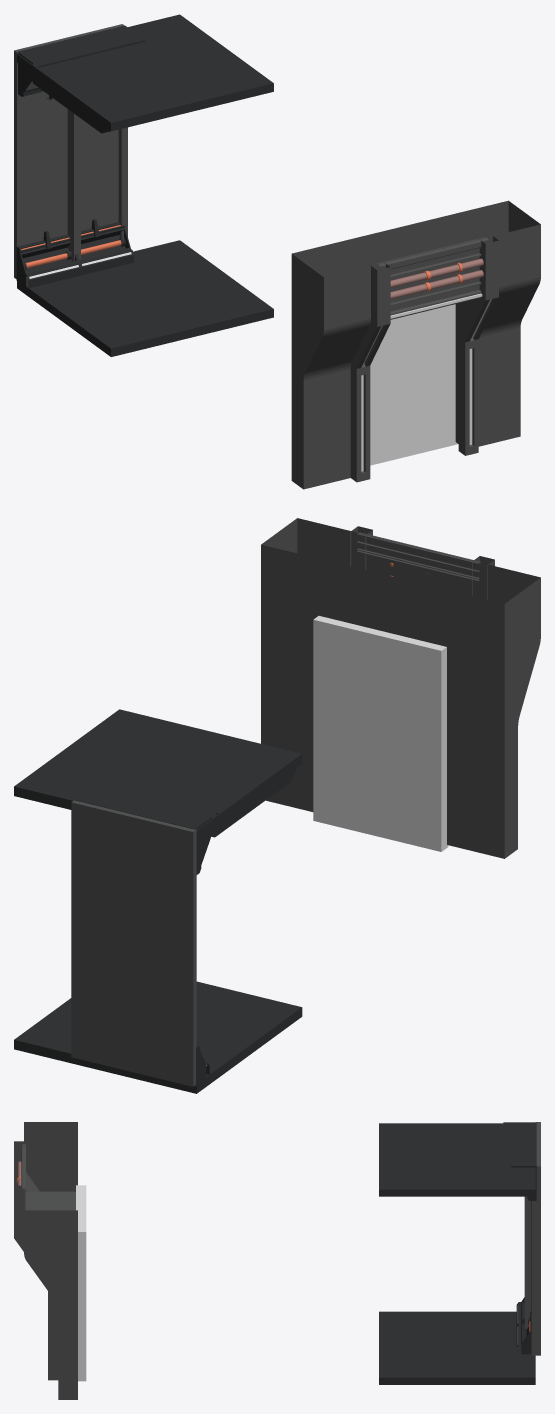
File: boundaries.fbx
3 renders of one model, top to bottom at view 1: azimuth 30°, elevation 25°; view 2: azimuth 150°, elevation 25°; view 3: azimuth 270°, elevation 25°, orthographic. The views are drawn at different scales.
Visible parts, largest first — view 1: Wall_Tech_opened, Floor_Tile, Ceil_tech, Wall_Tech, Door, Floor_Corner, Ceil_Corner, pipes; view 2: Wall_Tech_opened, Wall_Tech, Door, Ceil_tech, Floor_Tile, Ceil_Corner; view 3: Wall_Tech_opened, Floor_Tile, Ceil_tech, Wall_Tech, Door, Ceil_Corner, Floor_Corner.
Part boxes in pixels (bbox=[...]): Wall_Tech_opened: bbox=[291, 200, 540, 489]; Floor_Tile: bbox=[17, 240, 273, 356]; Ceil_tech: bbox=[17, 14, 273, 133]; Wall_Tech: bbox=[14, 24, 127, 279]; Door: bbox=[370, 304, 457, 465]; Floor_Corner: bbox=[16, 219, 133, 287]; Ceil_Corner: bbox=[18, 25, 144, 100]; pipes: bbox=[390, 258, 483, 299]; Wall_Tech_opened: bbox=[261, 518, 540, 858]; Wall_Tech: bbox=[71, 800, 196, 1086]; Door: bbox=[313, 616, 448, 851]; Ceil_tech: bbox=[14, 709, 302, 840]; Floor_Tile: bbox=[14, 981, 302, 1093]; Ceil_Corner: bbox=[74, 783, 217, 874]; Wall_Tech_opened: bbox=[14, 1122, 77, 1399]; Floor_Tile: bbox=[379, 1311, 535, 1384]; Ceil_tech: bbox=[379, 1123, 535, 1196]; Wall_Tech: bbox=[524, 1122, 540, 1355]; Door: bbox=[76, 1185, 86, 1381]; Ceil_Corner: bbox=[503, 1122, 536, 1200]; Floor_Corner: bbox=[516, 1297, 530, 1354].
Size of the model in its own units: 800 by 831 by 2017.
